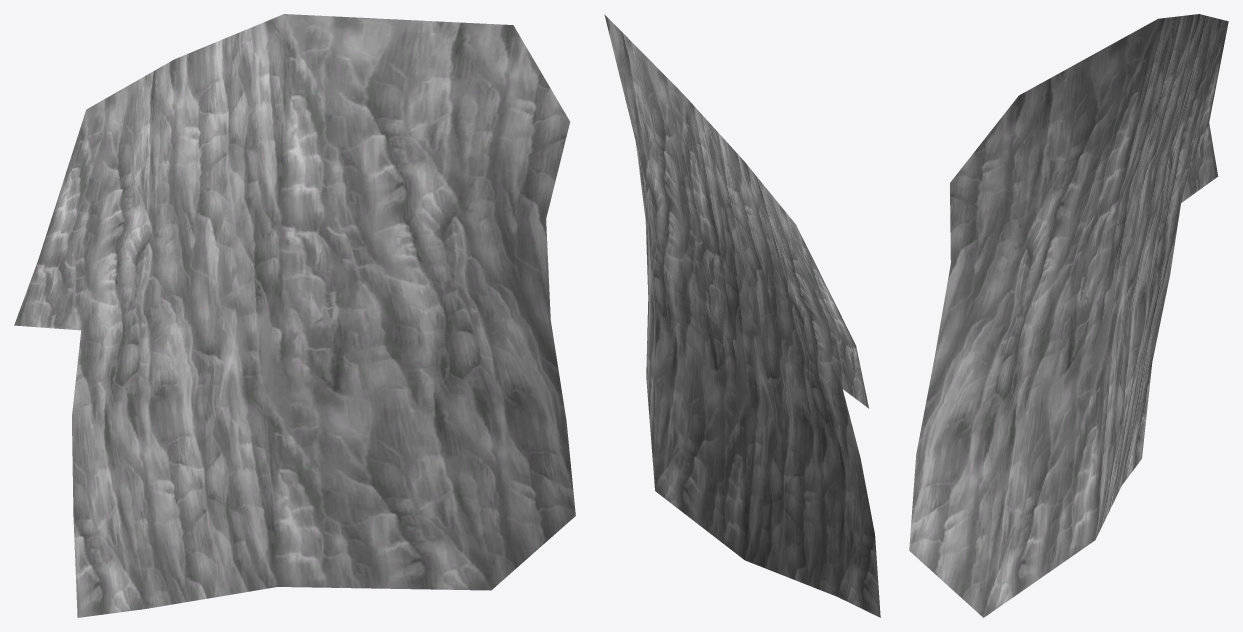
The model's file is SWORDLIGHT20_PS-AREA03_79.fbx.
The picture shows the model from 3 angles, left to right: view 1: azimuth 30°, elevation 25°; view 2: azimuth 150°, elevation 25°; view 3: azimuth 270°, elevation 25°; orthographic projection. The views are drawn at different scales.
Visible parts, largest first — view 1: SWORDLIGHT20_PS-AREA03_79; view 2: SWORDLIGHT20_PS-AREA03_79; view 3: SWORDLIGHT20_PS-AREA03_79.
Boxes of the visible parts, x1,y1,x2,y2 form: SWORDLIGHT20_PS-AREA03_79: (14,14,575,617); SWORDLIGHT20_PS-AREA03_79: (604,14,880,617); SWORDLIGHT20_PS-AREA03_79: (909,14,1228,617).
Bounding box in the file's own units: 106801 × 132293 × 70199.
1 material, 1 textured.
